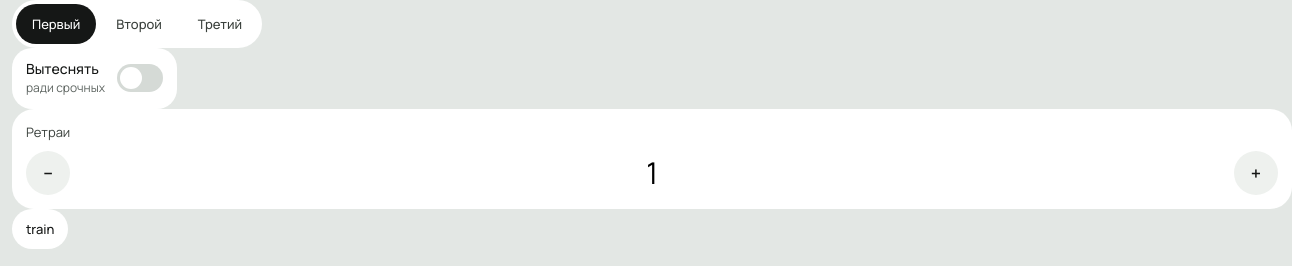
Test: элементы управления › шаги не выходят за пределы
Click the button named "Больше ретраев" at (1256, 173), box 1234,151 -> 1278,195
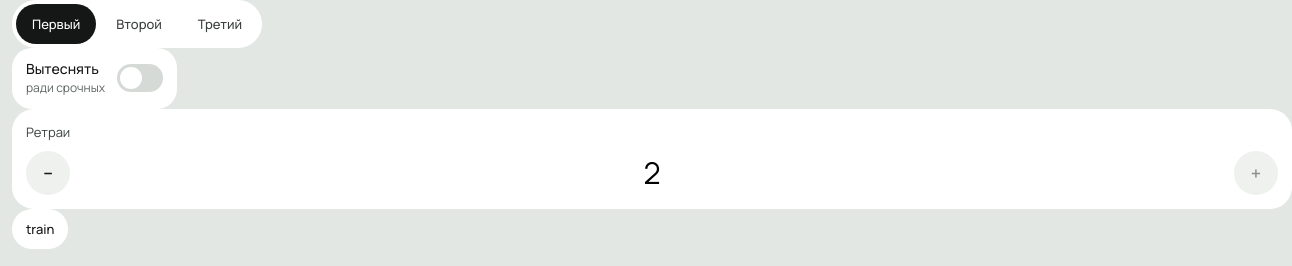
Expected: the element "Ретраи" shows "2", 643,152 -> 660,193
Expected: the button named "Больше ретраев" is disabled, 1234,151 -> 1278,195
Click the button named "Меньше ретраев" at (48, 173), box 26,151 -> 70,195
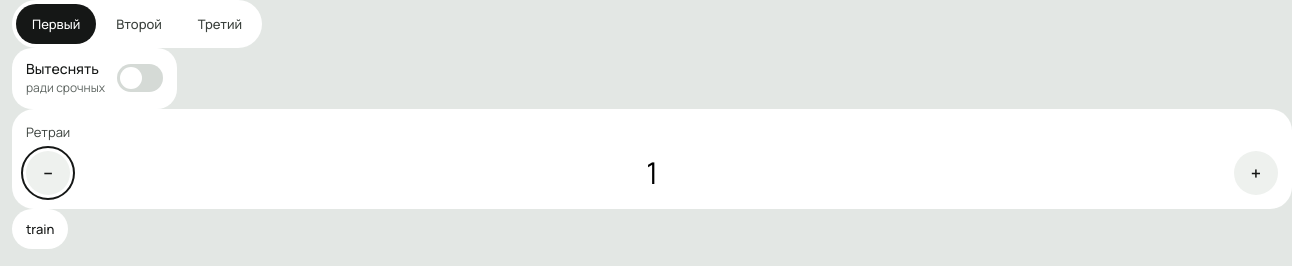
Click the button named "Меньше ретраев" at (48, 173), box 26,151 -> 70,195
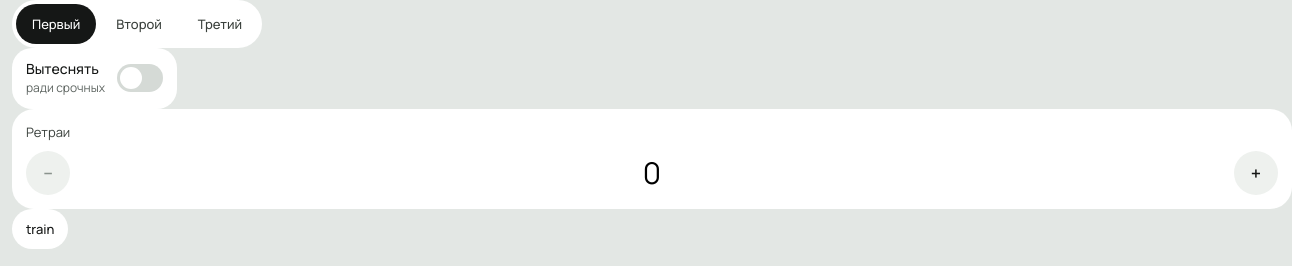
Expected: the button named "Меньше ретраев" is disabled, 26,151 -> 70,195
